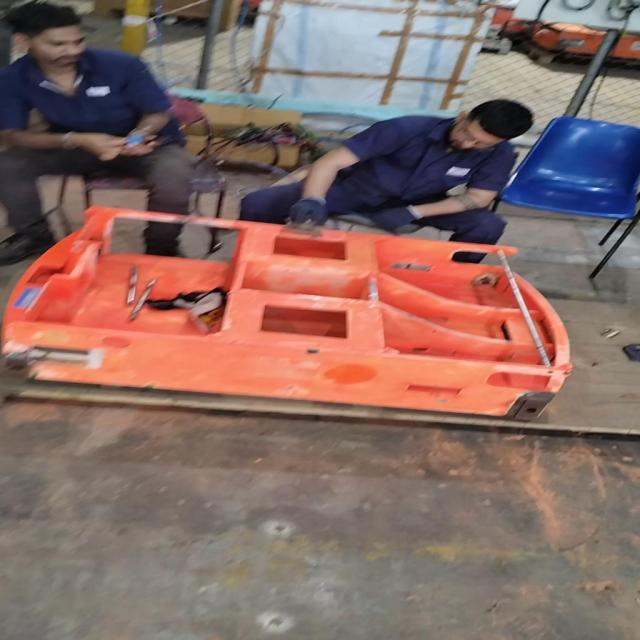Gloves-Detection: (366, 214, 410, 241), (294, 193, 324, 226)
